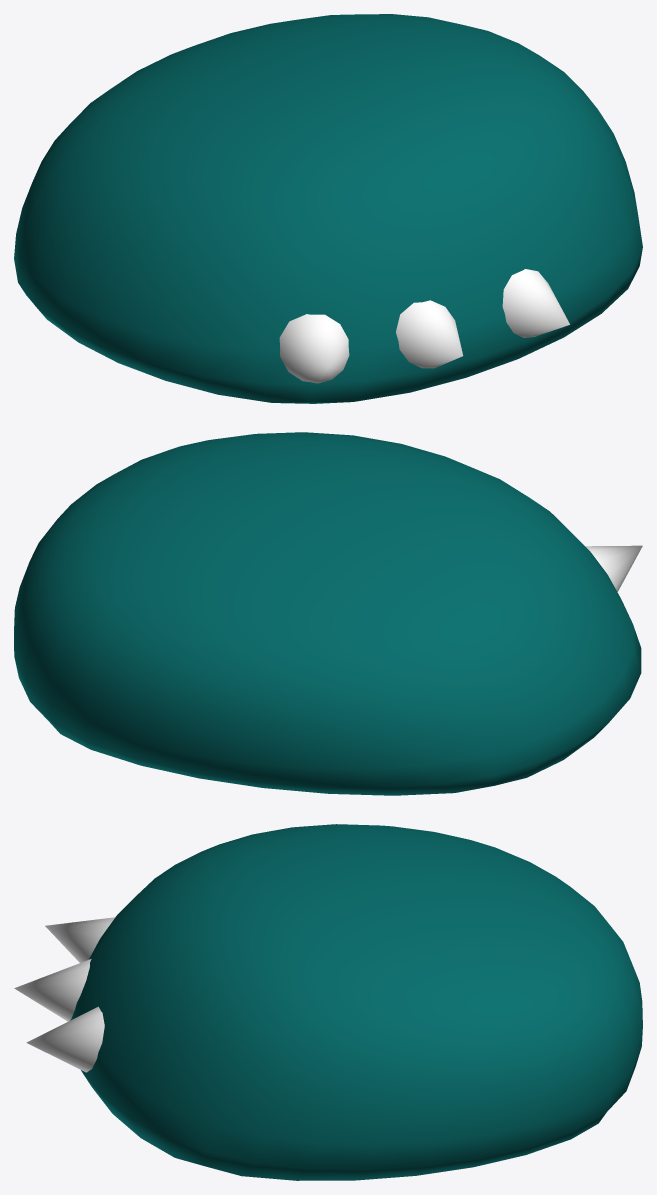
File: piederechosnorlax.fbx
The picture shows the model from 3 angles, top to bottom: view 1: azimuth 30°, elevation 25°; view 2: azimuth 150°, elevation 25°; view 3: azimuth 270°, elevation 25°; orthographic projection. The views are drawn at different scales.
Visible parts, largest first — view 1: pie derecho; view 2: pie derecho; view 3: pie derecho.
Boxes of the visible parts, left/top/right/bottom form: pie derecho: left=14, top=14, right=642, bottom=403; pie derecho: left=14, top=432, right=642, bottom=795; pie derecho: left=14, top=824, right=642, bottom=1180.
Size of the model in its own units: 178 by 65.39 by 182.
